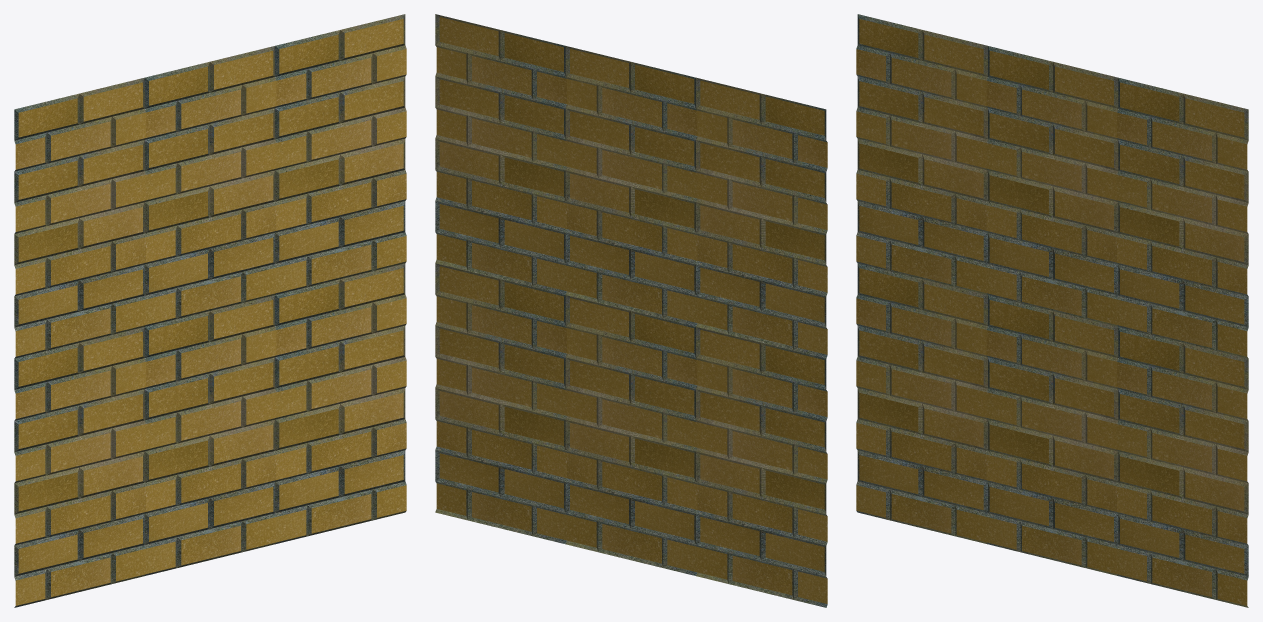
Rendered from Parede3Alto.fbx.
The picture shows the model from 3 angles, left to right: view 1: azimuth 30°, elevation 25°; view 2: azimuth 150°, elevation 25°; view 3: azimuth 330°, elevation 25°; orthographic projection.
Visible parts, largest first — view 1: Plano.007; view 2: Plano.007; view 3: Plano.007.
Part boxes in pixels (x1,y1,x2,y2): Plano.007: [14, 14, 406, 607]; Plano.007: [435, 14, 827, 607]; Plano.007: [856, 14, 1248, 607].
Bounding box in the file's own units: 8775 × 10685 × 50.34.
